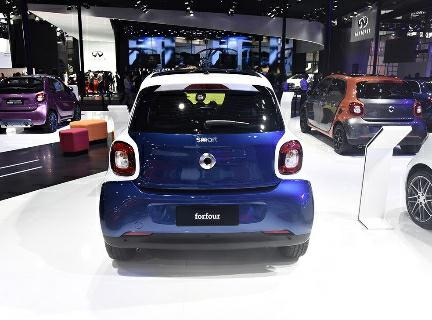smart-forfour: (94, 104, 318, 269)
